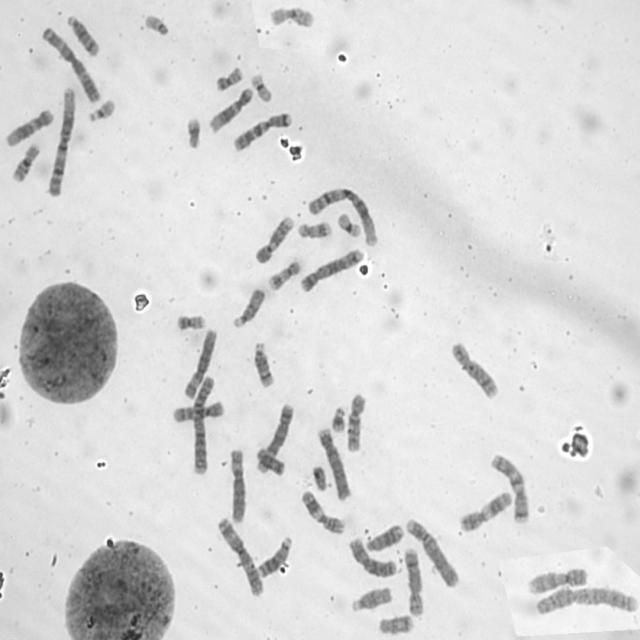A1: (305, 183, 380, 247), (45, 84, 76, 197)
A2: (533, 582, 639, 616), (190, 372, 216, 476)
A3: (38, 22, 102, 103), (213, 514, 266, 597)
B4: (404, 515, 461, 589), (316, 424, 353, 502)
B5: (297, 245, 364, 293), (254, 399, 296, 475)
C10: (344, 390, 368, 454), (170, 397, 226, 423)
C11: (457, 488, 512, 534), (298, 486, 346, 536)
C12: (207, 83, 256, 133), (4, 105, 56, 148)
C6: (182, 324, 220, 399), (226, 444, 249, 524)
C7: (488, 450, 531, 524), (231, 109, 294, 152)
C8: (449, 338, 500, 399), (401, 543, 425, 617)
C9: (253, 214, 295, 265), (524, 564, 590, 596)
D13: (254, 532, 294, 579), (364, 520, 406, 552)
D14: (65, 11, 101, 57), (250, 337, 277, 388)
D15: (230, 284, 266, 329), (348, 583, 394, 613)
E16: (9, 140, 41, 183), (267, 2, 317, 28)
E17: (266, 254, 304, 292), (295, 218, 334, 240)
E18: (253, 443, 287, 478), (376, 610, 414, 636)
F19: (248, 70, 274, 104), (334, 209, 362, 239)
F20: (213, 63, 244, 91), (174, 311, 207, 331)
G21: (184, 114, 202, 150), (329, 402, 349, 434)
G22: (86, 96, 116, 122), (142, 11, 170, 37)
X: (346, 534, 401, 578)
Y: (310, 462, 330, 492)
